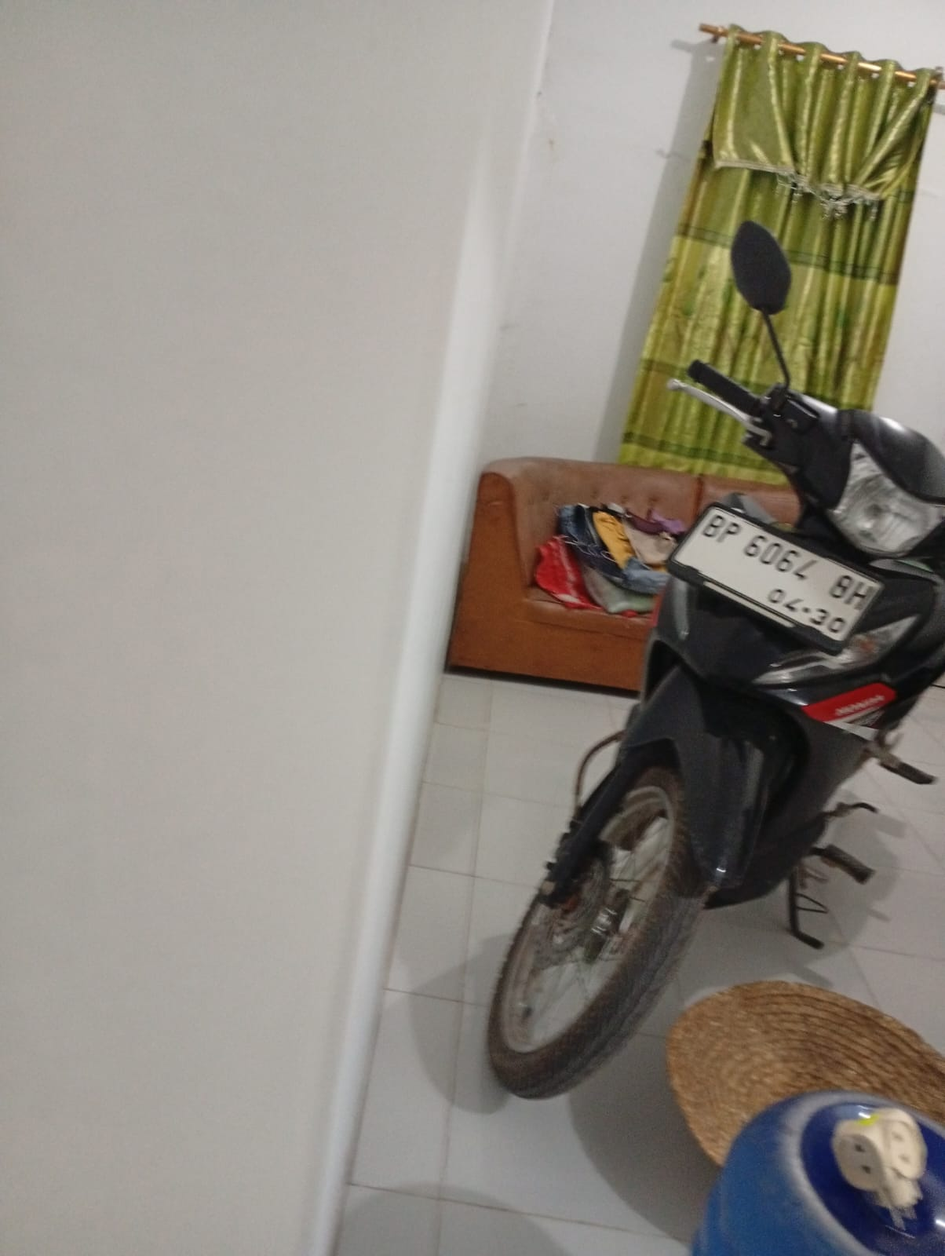Colokan: (825, 1093, 937, 1238)
